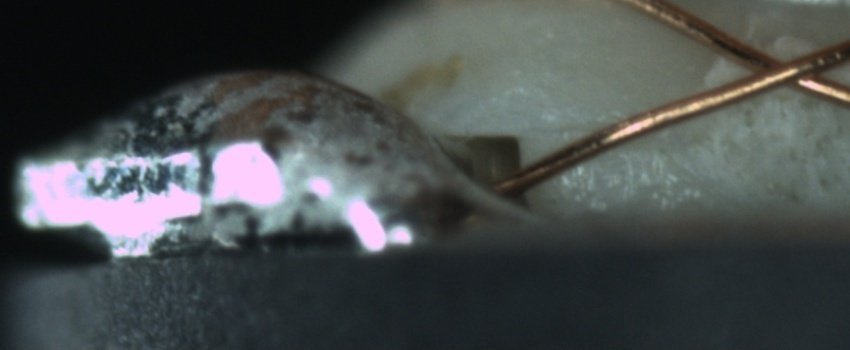CL: (714, 38, 847, 102)
DL: (536, 102, 658, 156)
